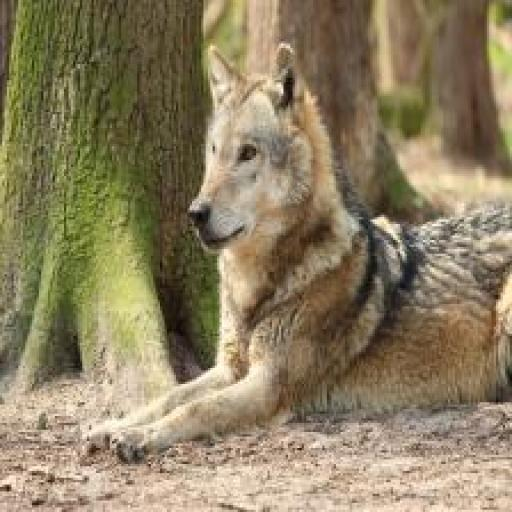wolf: (78, 41, 511, 465)
